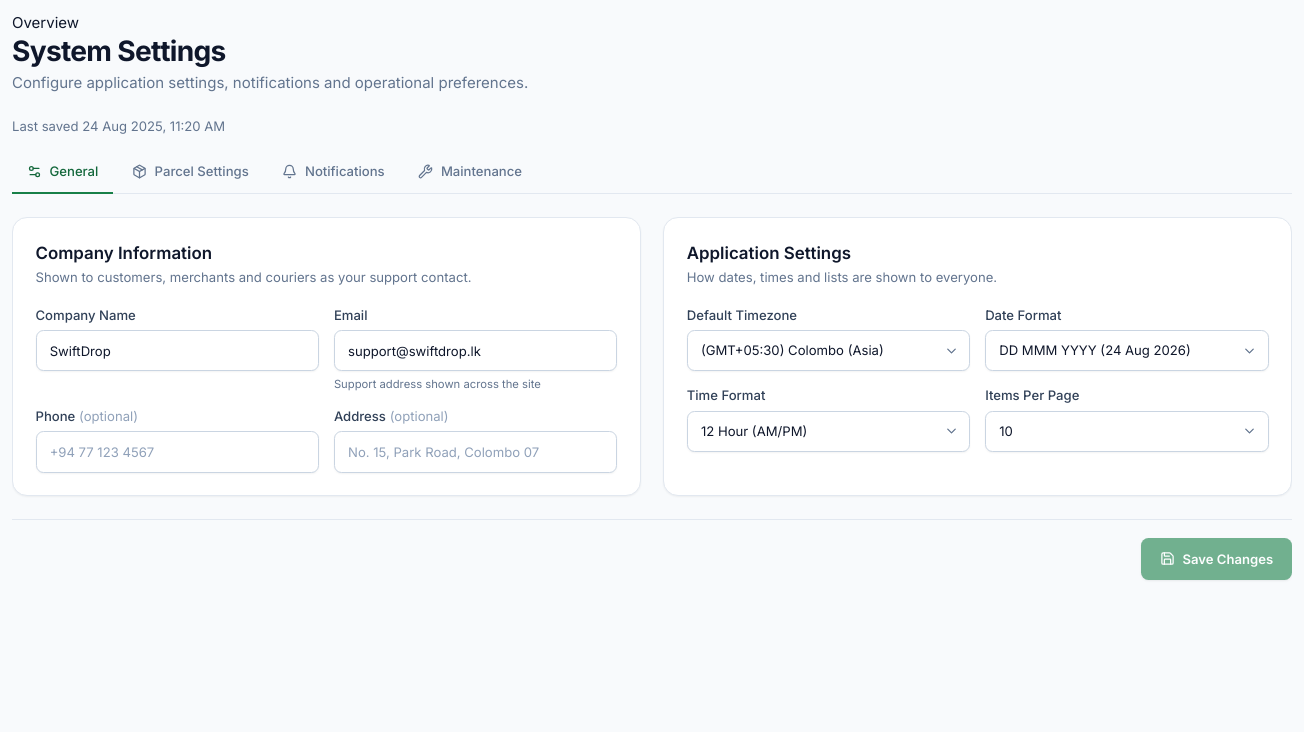
SystemSettingsPage › opens the tab with the mistake and does not save
Expected: the tab "General" is shown, top-left (12, 151), bottom-right (113, 194)
Click the tab "Parcel Settings".
click(190, 172)  # box top-left (117, 151), bottom-right (264, 194)
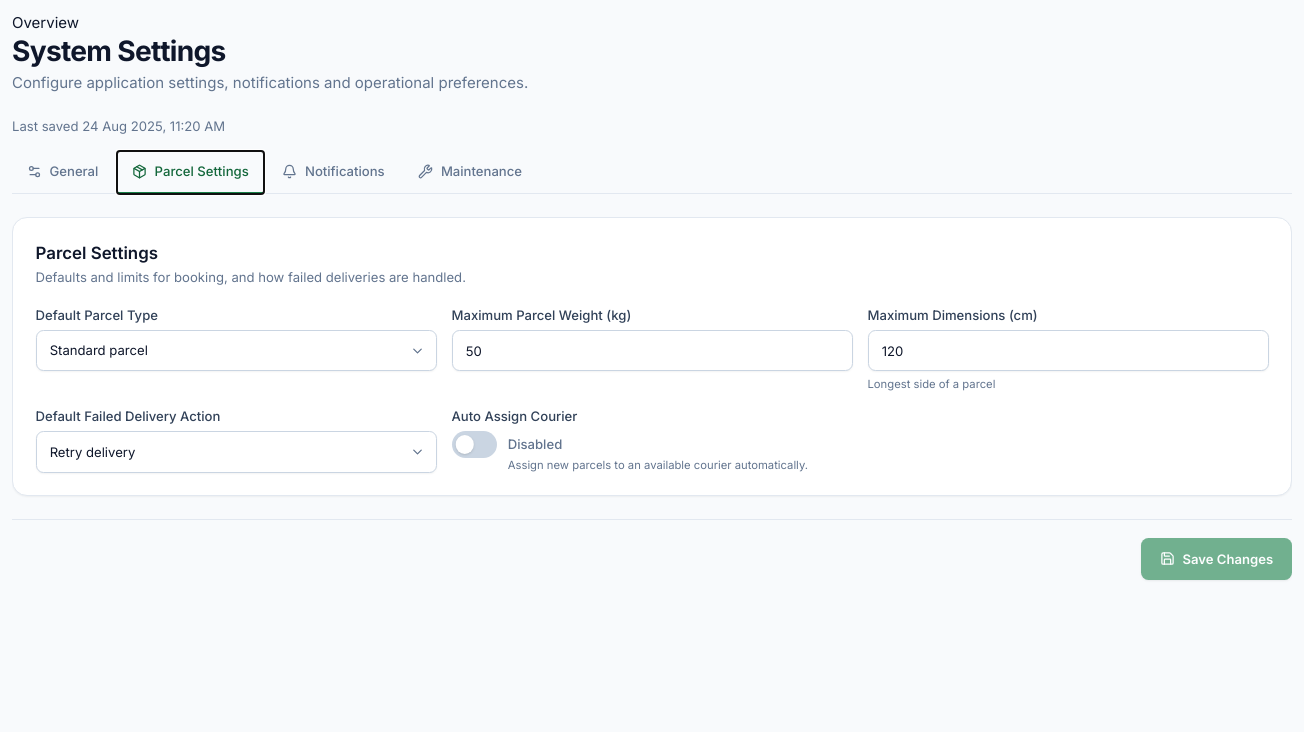
Replace the text in the field labelled "Maximum Parcel Weight (kg)" with "0" at (652, 351), box top-left (452, 330), bottom-right (852, 371)
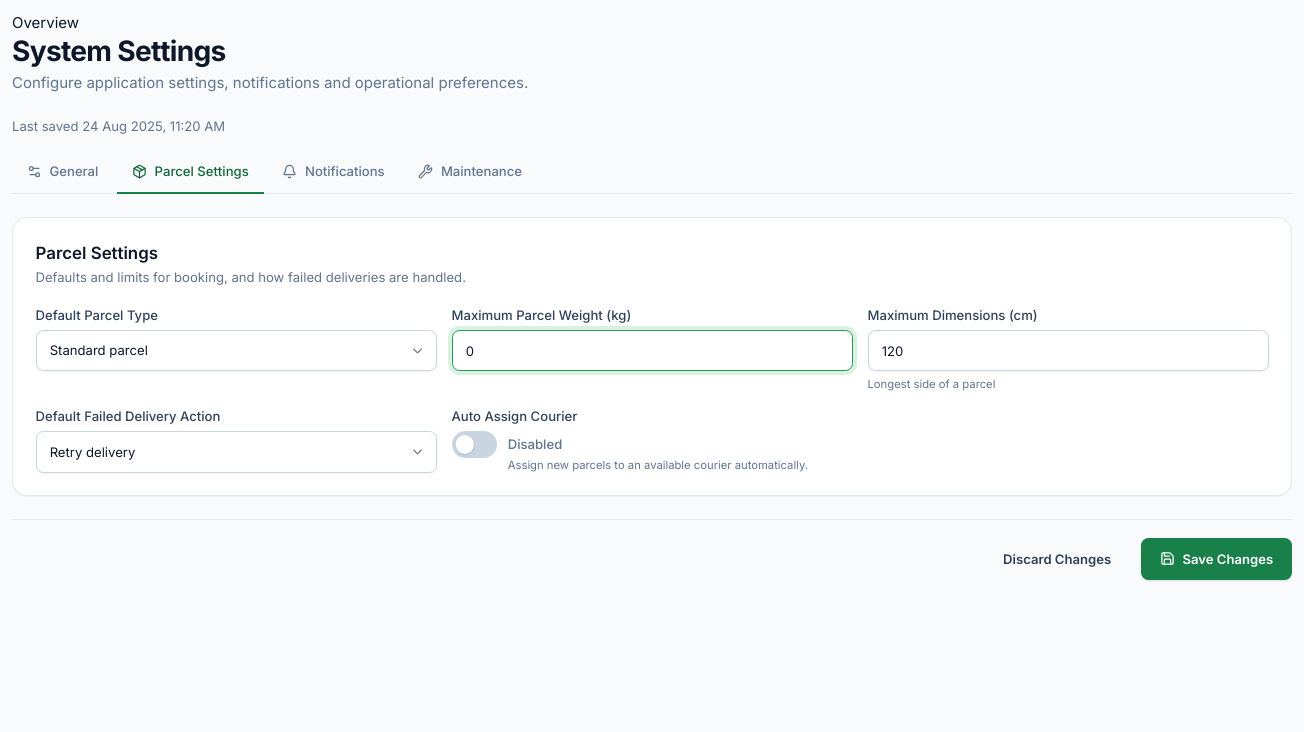
Click the tab "General".
click(63, 172)  # box top-left (12, 151), bottom-right (113, 194)
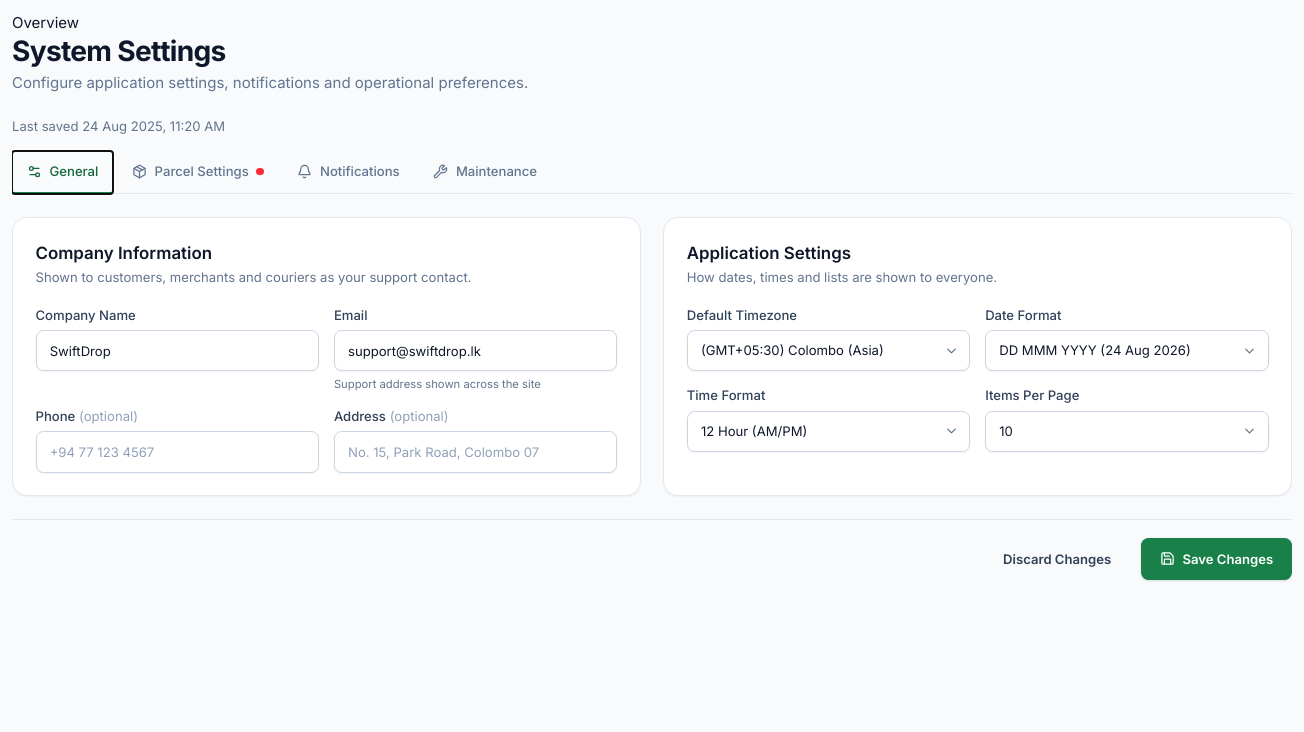
Click the button "Save Changes".
click(1217, 559)  # box top-left (1141, 538), bottom-right (1292, 580)
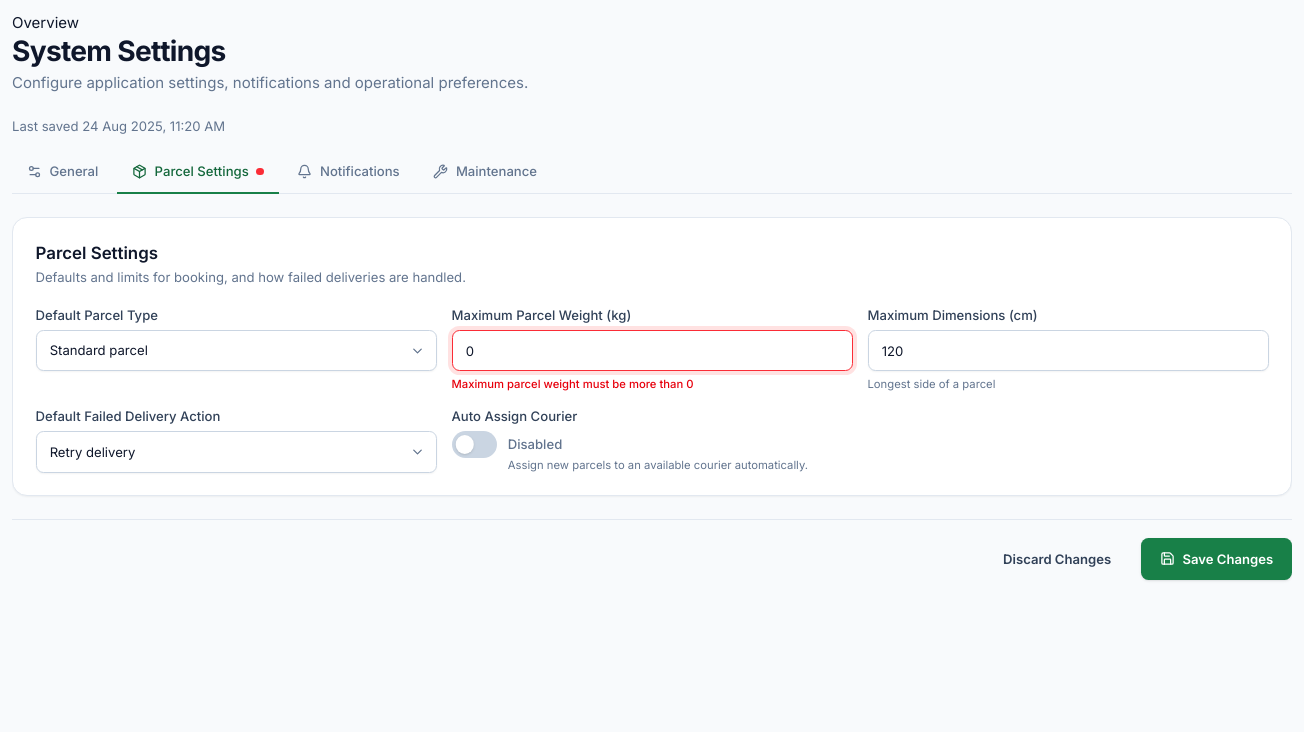
Result: the text "Maximum parcel weight must be more than 0" is shown at top-left (452, 377), bottom-right (694, 391)
